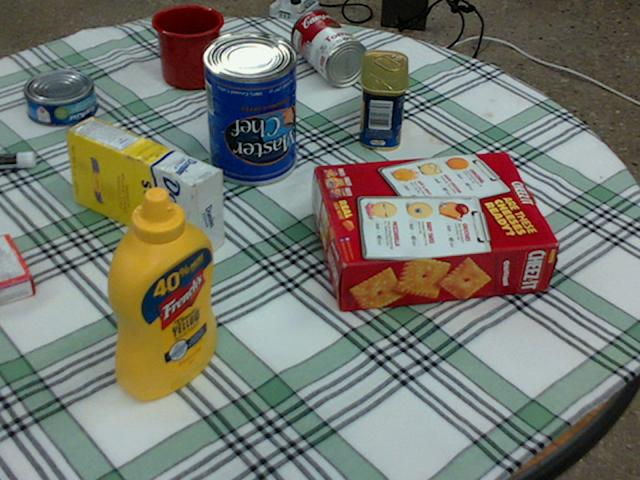cracker_box: (314, 151, 558, 312)
gelatin_box: (0, 234, 36, 305)
large_marker: (0, 151, 35, 168)
master_chef_can: (201, 31, 294, 184)
mug: (153, 4, 225, 87)
mustard_bottle: (106, 187, 216, 398)
potted_meat_can: (358, 50, 407, 149)
sugar_box: (65, 117, 222, 259)
tomato_soup_can: (291, 9, 367, 85)
tuna_fish_can: (24, 69, 97, 125)
